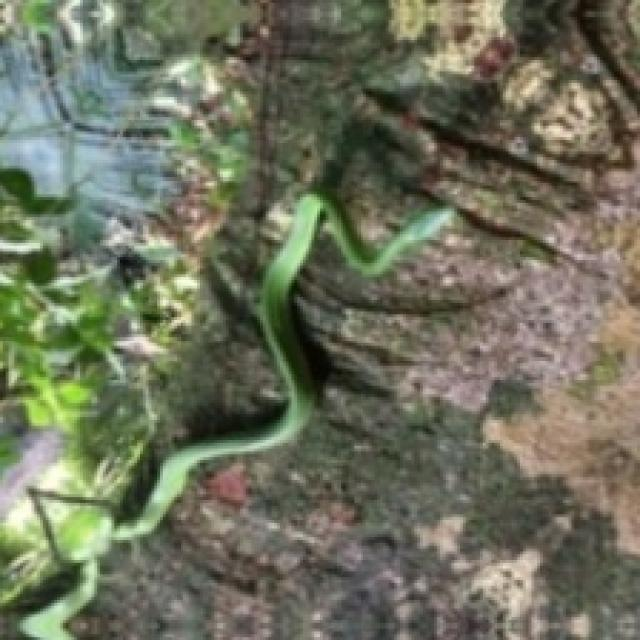red-tailed green ratsnake: (20, 191, 451, 637)
